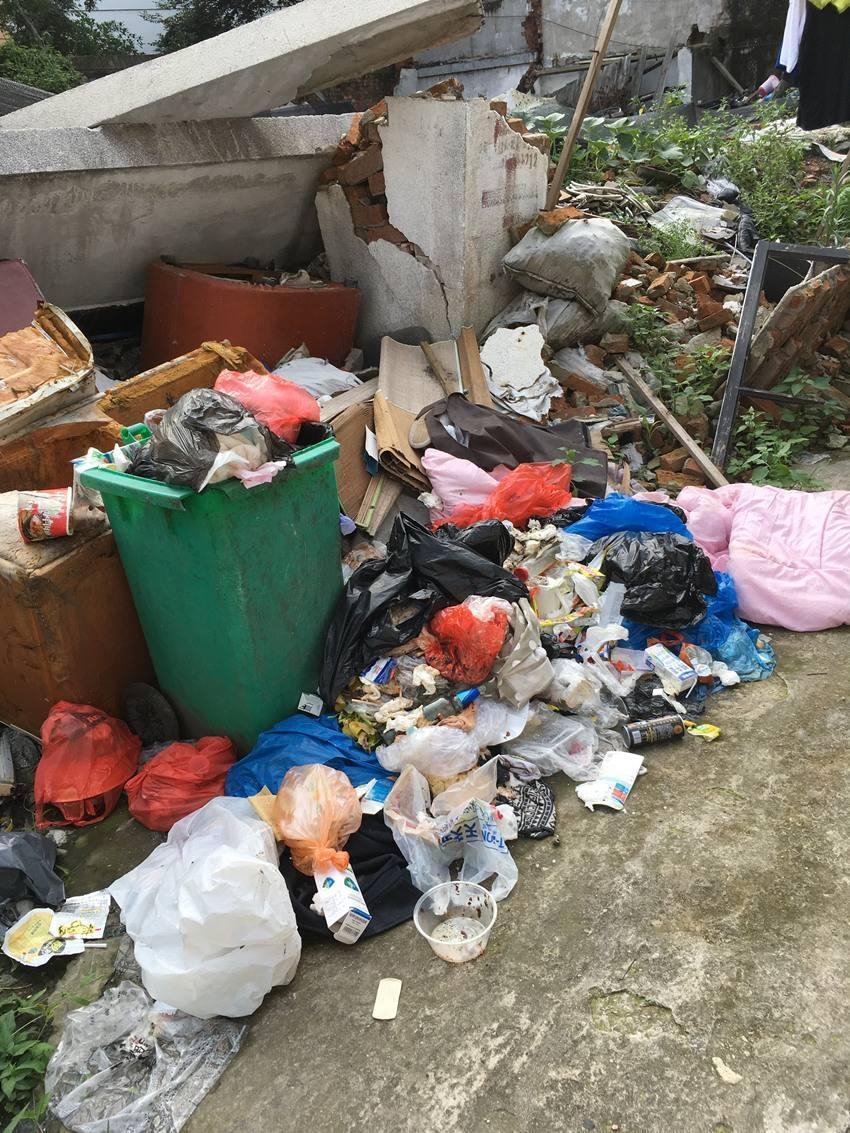Fall-Detected: (543, 461, 849, 670)
